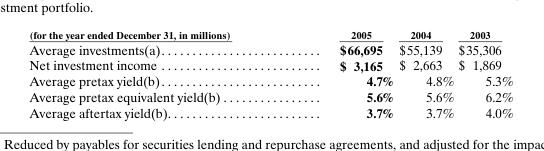table: (28, 28, 513, 119)
table column: (28, 28, 284, 119), (284, 28, 395, 119), (395, 28, 455, 119), (455, 28, 513, 119)
table column header: (28, 28, 513, 40)
table row: (28, 40, 513, 56), (28, 56, 513, 72), (28, 72, 513, 88), (28, 88, 513, 104), (28, 104, 513, 119), (28, 28, 513, 40)
